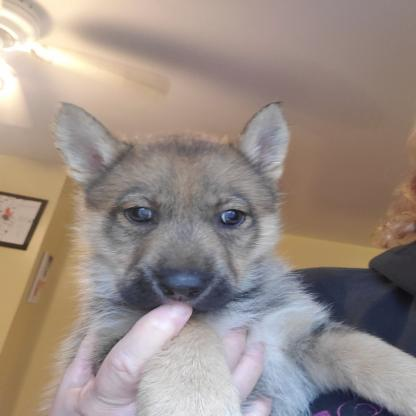dog: (49, 99, 416, 416)
